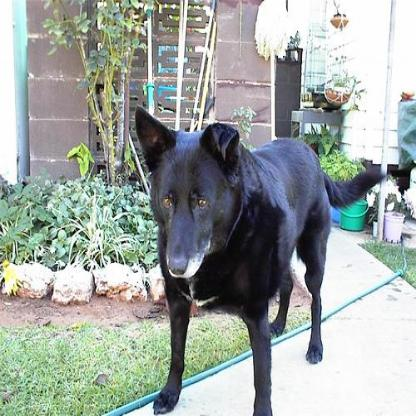kelpie: (133, 104, 386, 414)
